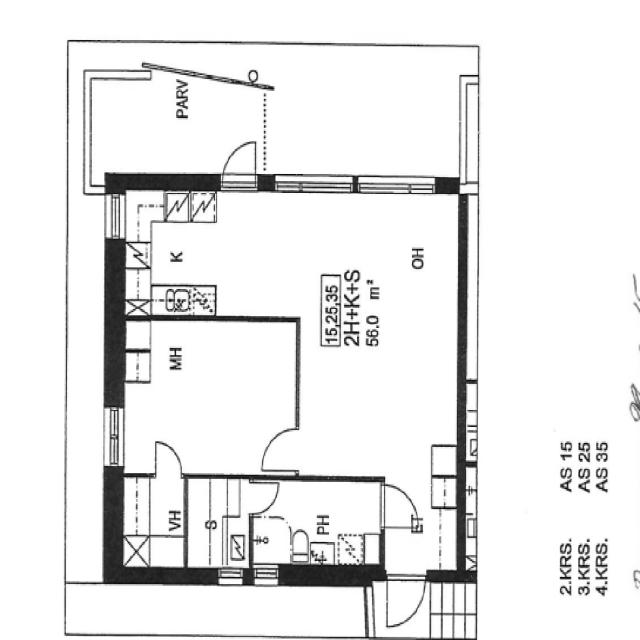door: (245, 428, 298, 518), (378, 567, 431, 630), (374, 474, 421, 538), (216, 134, 264, 193), (256, 420, 306, 473), (146, 436, 189, 480), (242, 475, 284, 518)
window: (352, 170, 443, 201), (271, 168, 356, 198), (100, 399, 128, 474), (100, 186, 129, 247), (212, 564, 247, 588), (251, 562, 283, 587)
zone: (106, 186, 436, 328), (121, 316, 299, 474), (248, 478, 382, 570), (185, 474, 249, 576), (120, 476, 187, 572), (374, 470, 425, 542)
